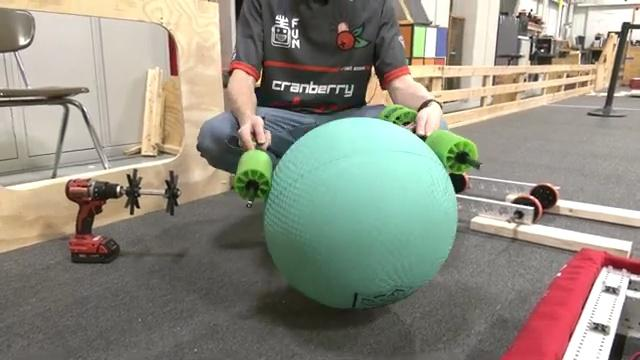ALGAE: (261, 115, 459, 310)
